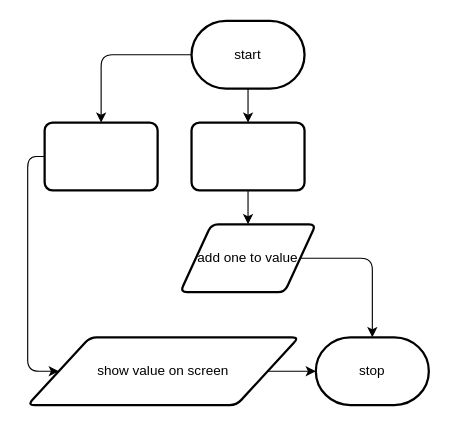
Some shapes in this 450 by 425 pixel diagram are drawn without their labels. Each missing label, with the box of its shape:
A Key is used: (190, 121, 305, 191)
B key is used: (43, 121, 158, 191)
